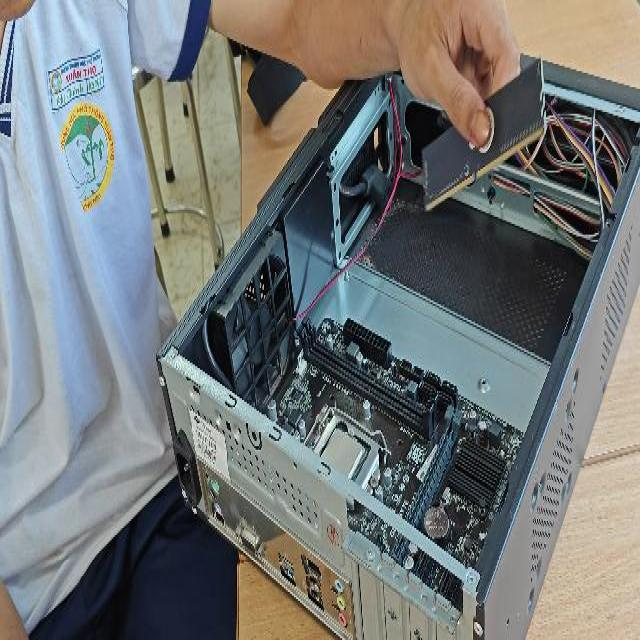CPU: (310, 419, 368, 489)
Mainboard: (253, 311, 524, 629)
RAM: (422, 52, 546, 216)
